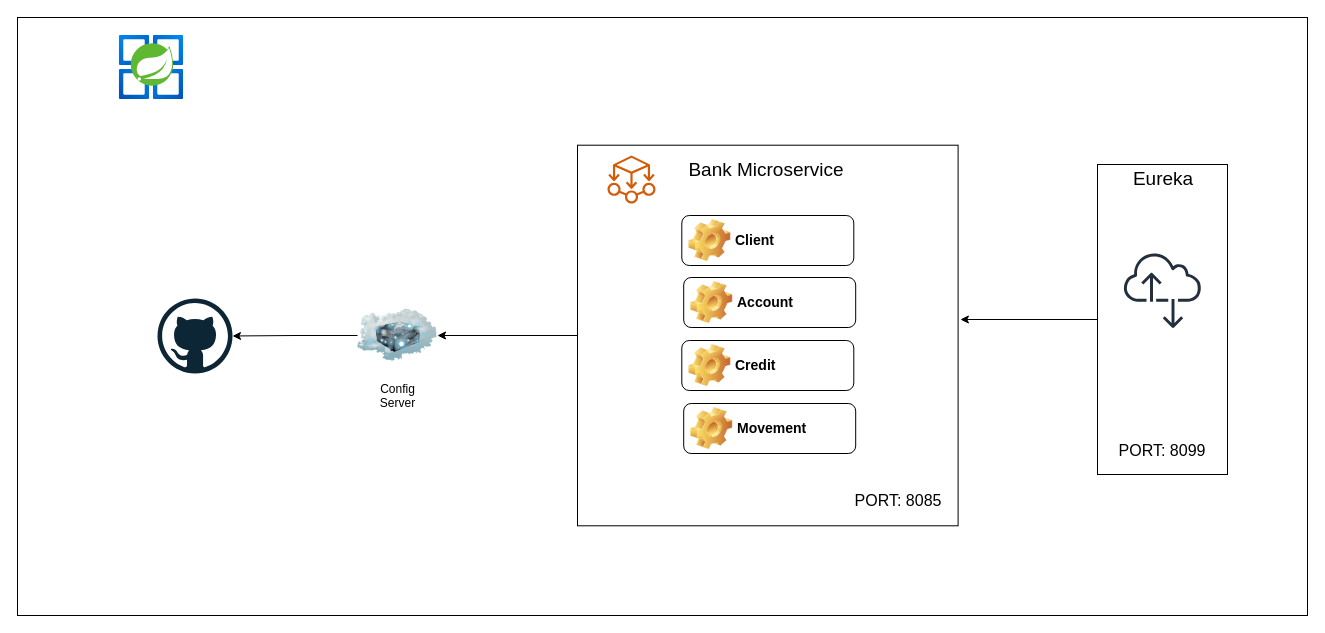
Some shapes in this 1325 by 633 pixel diagram are drawn without their labels. The centre of each missing label's shape, as x and y in pixels:
"Github Repository" belongs at pixel 194 336.
"Spring" belongs at pixel 151 67.
